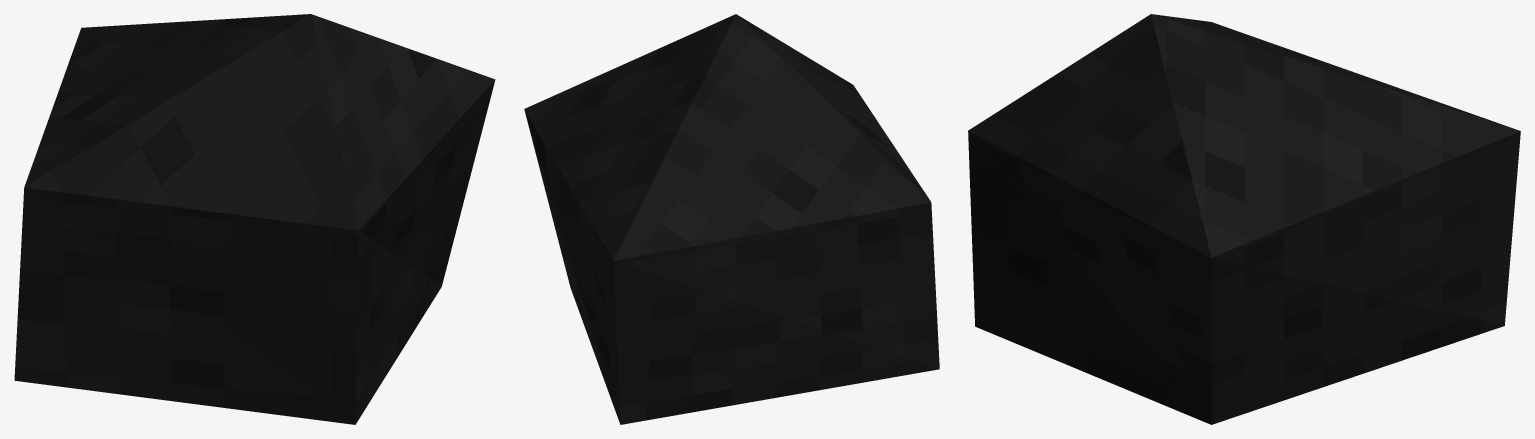
The model's file is pedernal.glb.
The picture shows the model from 3 angles, left to right: view 1: azimuth 30°, elevation 25°; view 2: azimuth 150°, elevation 25°; view 3: azimuth 270°, elevation 25°; orthographic projection. The views are drawn at different scales.
Parts seen in each view (by area): view 1: monton; view 2: monton; view 3: monton.
Boxes of the visible parts, left/top/right/bottom form: monton: left=14, top=14, right=495, bottom=424; monton: left=524, top=14, right=939, bottom=424; monton: left=968, top=14, right=1520, bottom=424.
Size of the model in its own units: 0.15 by 0.1 by 0.15.
1 material, 1 textured.
